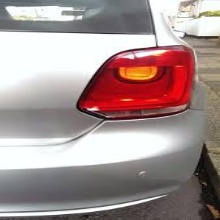no damage: (1, 1, 207, 217)
